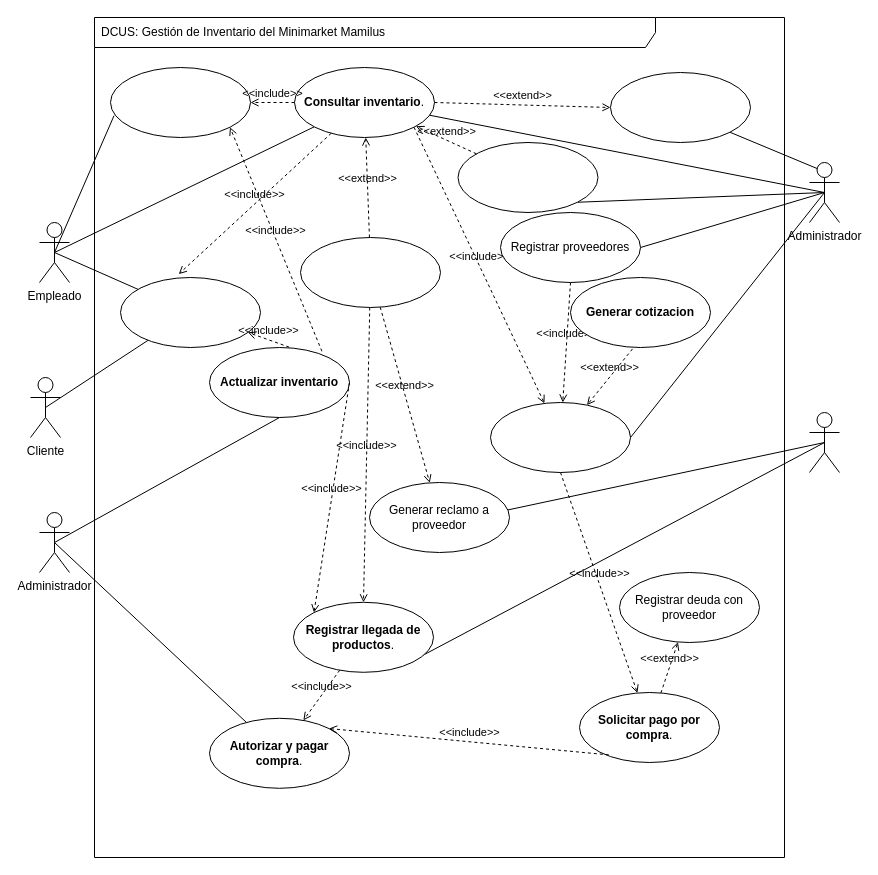
The diagram is 878 pixels wide and 875 high, and some of its shapes have lost their labels. Here are the shapes that lost their labels. From the top down, the centre of each, then its label:
At point (180, 102): "Notificar error en inventario".
At point (680, 107): "Registrar inventario".
At point (527, 177): "Registrar llegada de productos".
At point (370, 272): "Verificar Producto".
At point (190, 312): "Registrar ventas .".
At point (560, 437): "Hacer pedido a proveedores .".
At point (824, 442): "Proveedor".
